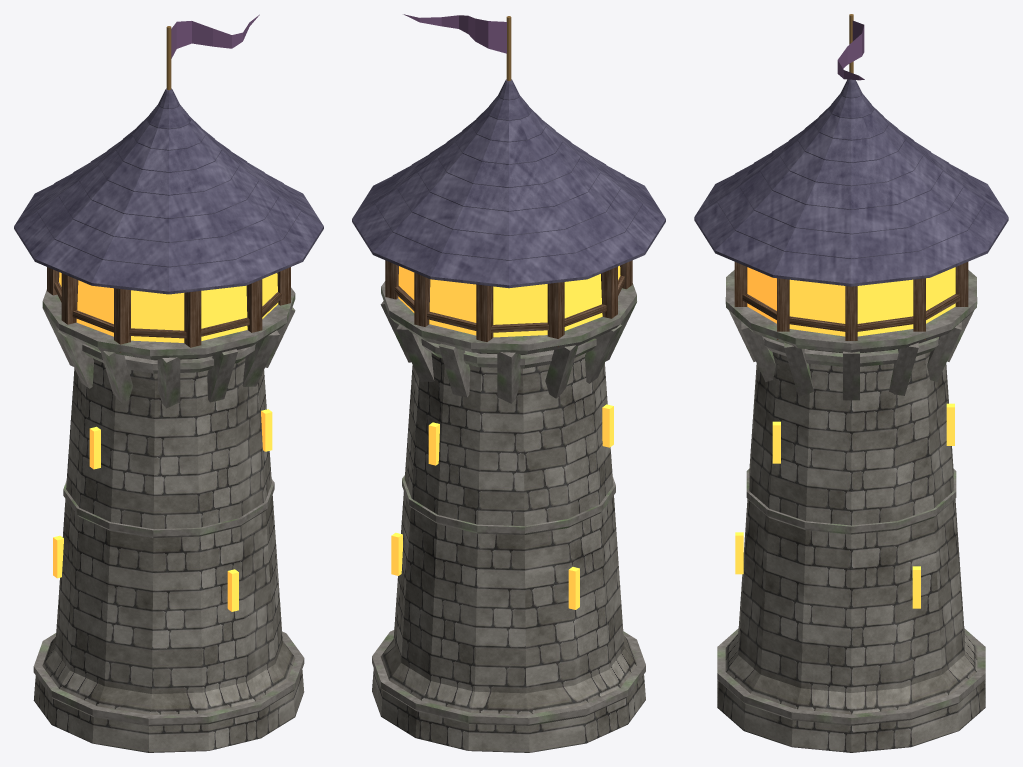
File: watchtower.glb
The picture shows the model from 3 angles, left to right: view 1: azimuth 30°, elevation 25°; view 2: azimuth 150°, elevation 25°; view 3: azimuth 270°, elevation 25°; orthographic projection.
Visible parts, largest first — view 1: watchtower; view 2: watchtower; view 3: watchtower.
Part boxes in pixels (x1,y1,x2,y2): watchtower: (14,14,323,752); watchtower: (352,14,665,752); watchtower: (694,14,1008,752).
Bounding box in the file's own units: 4.5 × 10.73 × 4.5.
Materials: 7 (4 with a texture image).
